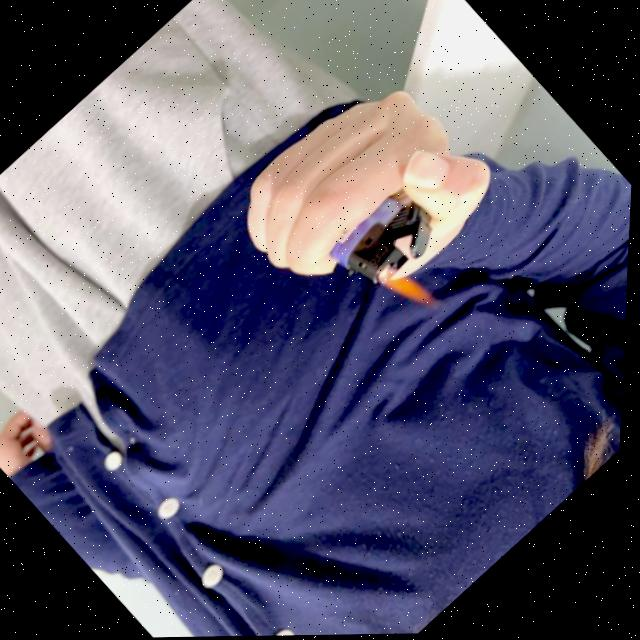Fire: (373, 256, 444, 326)
